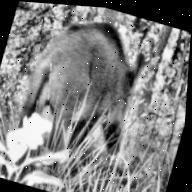boar: (4, 1, 158, 182)
